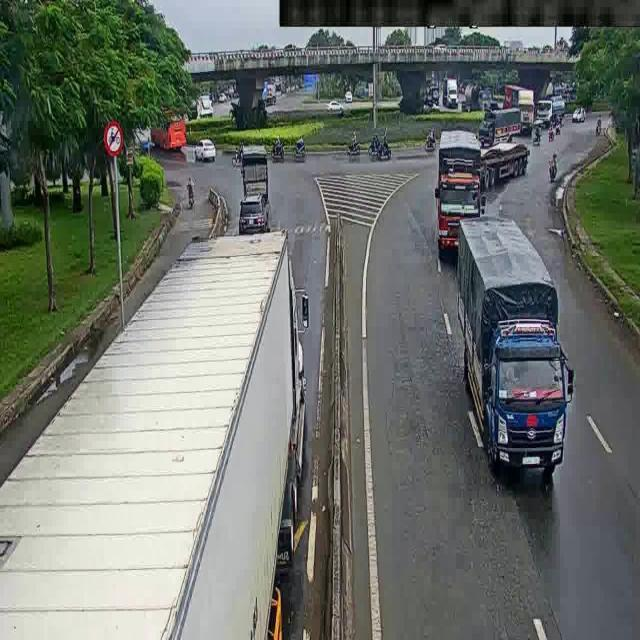bus: (147, 94, 196, 156)
car: (234, 194, 276, 232), (188, 133, 219, 165), (572, 105, 593, 129)
motorbike: (343, 126, 361, 175), (294, 136, 316, 161), (546, 156, 565, 183), (414, 129, 438, 148), (267, 136, 287, 157), (369, 135, 388, 155), (546, 117, 559, 145), (594, 116, 606, 139), (533, 123, 543, 143), (555, 119, 563, 137)
truck: (4, 231, 338, 640), (438, 206, 580, 516), (423, 118, 496, 258), (221, 142, 271, 198), (478, 100, 527, 148), (495, 79, 533, 138), (540, 94, 570, 126)
